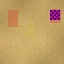structure: (25, 14, 37, 36)
vehicle: (8, 10, 18, 27)
